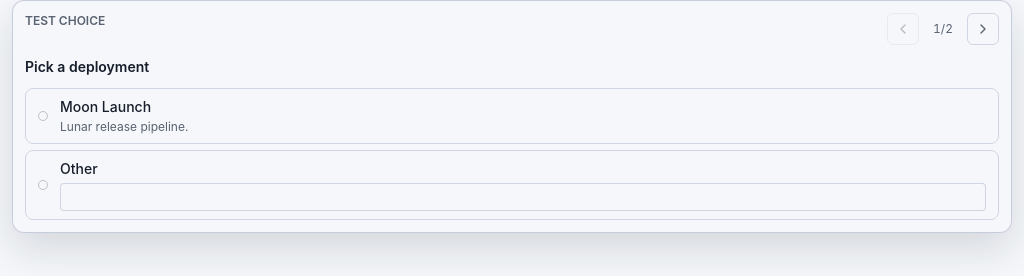
Scenario: typing spaces in the other-answer input does not advance the question
The image size is (1024, 276).
Click the field named "Other answer for Pick a deployment".
click(523, 197)  # box [60,183,986,211]
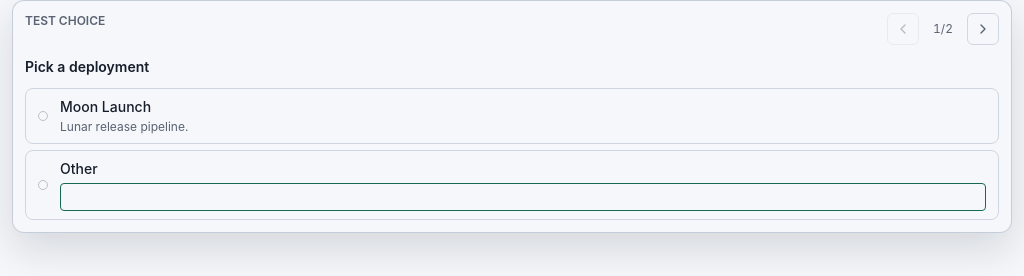
Type keys "custom answer with spaces"
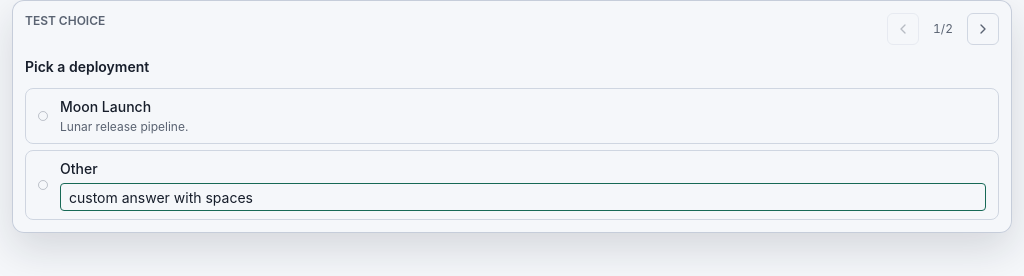
Expected: the heading "Pick a deployment" is shown, [25,58,149,75]
Now the field named "Other answer for Pick a deployment" holds "custom answer with spaces", box [60,183,986,211]
